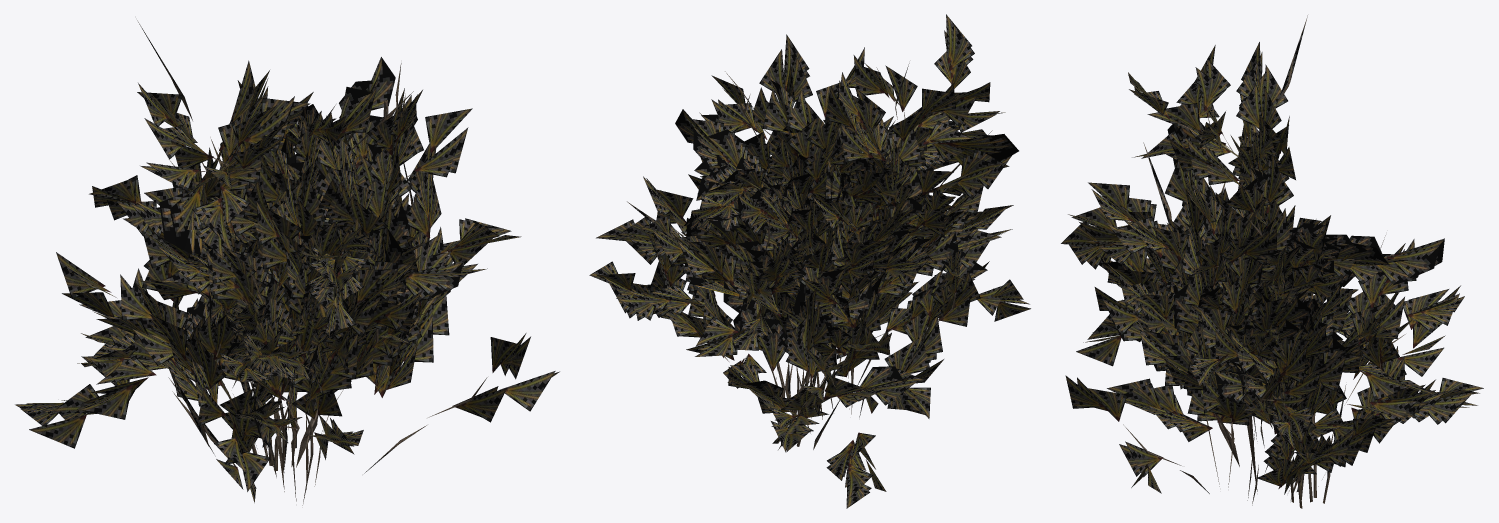
The model's file is bruyere.glb.
3 renders of one model, left to right at view 1: azimuth 30°, elevation 25°; view 2: azimuth 150°, elevation 25°; view 3: azimuth 270°, elevation 25°, orthographic. The views are drawn at different scales.
Parts seen in each view (by area): view 1: wild_rooibos_bush_b, wild_rooibos_bush_c, wild_rooibos_bush_d, wild_rooibos_bush_e; view 2: wild_rooibos_bush_b, wild_rooibos_bush_c, wild_rooibos_bush_d, wild_rooibos_bush_e; view 3: wild_rooibos_bush_b, wild_rooibos_bush_c, wild_rooibos_bush_d, wild_rooibos_bush_e.
Boxes of the visible parts, box(x1,y1,x2,y2) form: wild_rooibos_bush_b: box(15, 20, 559, 502); wild_rooibos_bush_c: box(77, 167, 453, 489); wild_rooibos_bush_d: box(185, 57, 487, 505); wild_rooibos_bush_e: box(201, 201, 410, 472); wild_rooibos_bush_b: box(596, 14, 1030, 508); wild_rooibos_bush_c: box(589, 116, 1013, 452); wild_rooibos_bush_d: box(675, 84, 989, 419); wild_rooibos_bush_e: box(715, 168, 919, 446); wild_rooibos_bush_b: box(1065, 15, 1477, 493); wild_rooibos_bush_c: box(1061, 160, 1483, 494); wild_rooibos_bush_d: box(1100, 168, 1444, 505); wild_rooibos_bush_e: box(1198, 284, 1346, 508).
Size of the model in its own units: 0.5219 by 0.5261 by 0.4721.
Materials: 1 (1 with a texture image).
